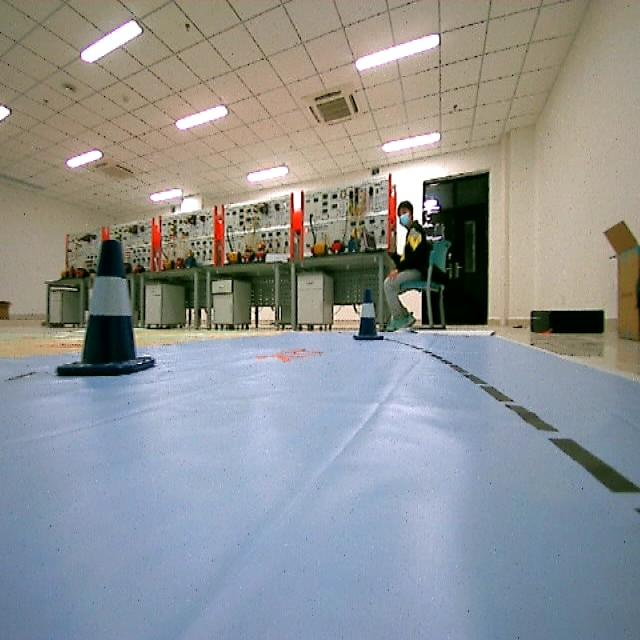obstacle: (53, 239, 163, 384), (345, 290, 387, 345)
